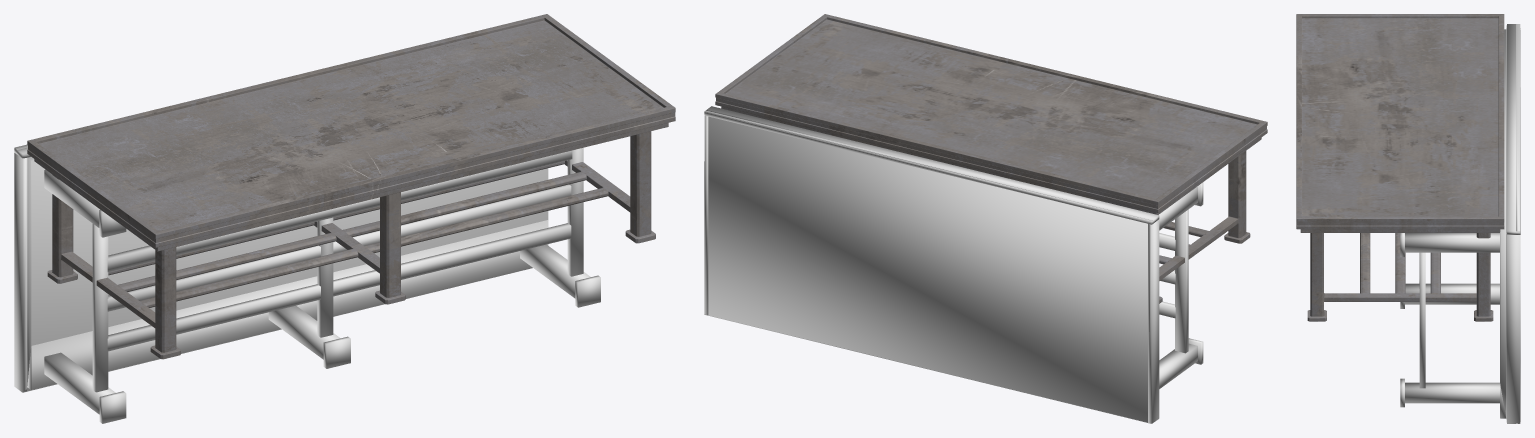
Rendered from SM_TableMetalLarge.fbx.
3 renders of one model, left to right at view 1: azimuth 30°, elevation 25°; view 2: azimuth 150°, elevation 25°; view 3: azimuth 270°, elevation 25°, orthographic. The views are drawn at different scales.
Parts seen in each view (by area): view 1: SM_TableMetalLarge, SM_TableMetalLarge_ConvexHulls; view 2: SM_TableMetalLarge_ConvexHulls, SM_TableMetalLarge; view 3: SM_TableMetalLarge, SM_TableMetalLarge_ConvexHulls.
Part boxes in pixels (box(x1,y1,x2,y2)): SM_TableMetalLarge: box(27, 14, 675, 359); SM_TableMetalLarge_ConvexHulls: box(14, 144, 600, 423); SM_TableMetalLarge_ConvexHulls: box(704, 106, 1203, 423); SM_TableMetalLarge: box(715, 14, 1267, 303); SM_TableMetalLarge: box(1296, 14, 1504, 321); SM_TableMetalLarge_ConvexHulls: box(1400, 24, 1520, 423).
Bounding box in the file's own units: 3.54 × 1.63 × 1.62.
